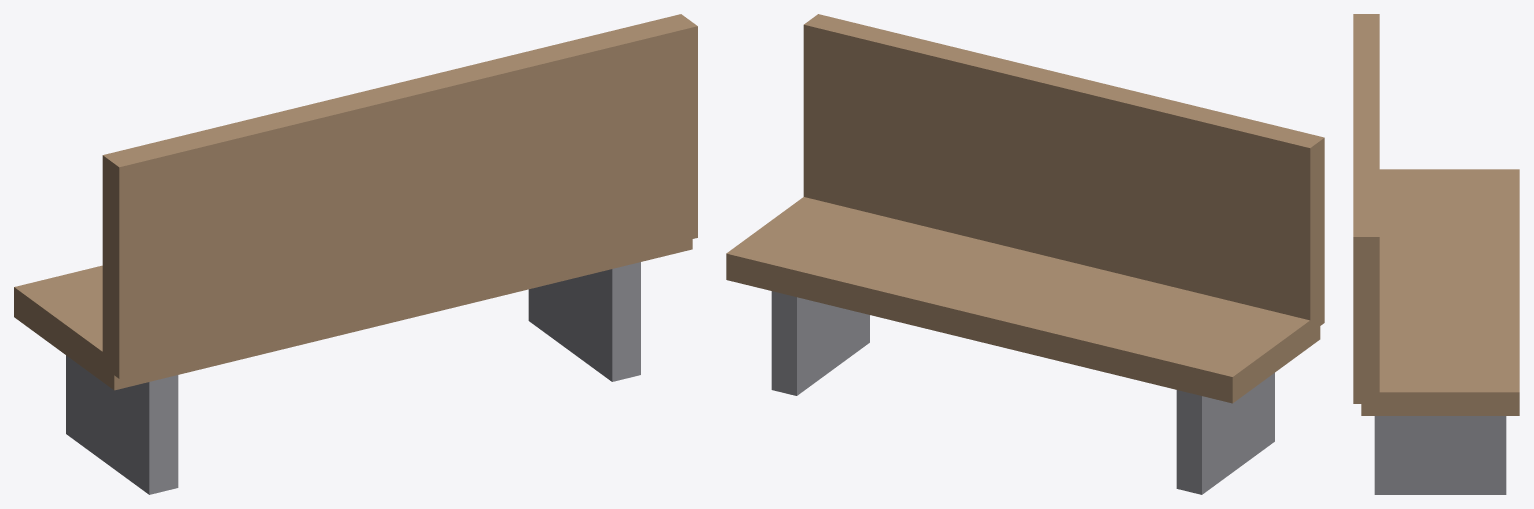
Rendered from bench_metal_wood.glb.
3 renders of one model, left to right at view 1: azimuth 30°, elevation 25°; view 2: azimuth 150°, elevation 25°; view 3: azimuth 270°, elevation 25°, orthographic. The views are drawn at different scales.
Parts seen in each view (by area): view 1: back, seat, leg1, leg2; view 2: back, seat, leg1, leg2; view 3: seat, back, leg2.
Boxes of the visible parts, left/top/right/bottom form: back: left=102, top=14, right=697, bottom=378; seat: left=14, top=239, right=692, bottom=390; leg1: left=66, top=355, right=178, bottom=494; leg2: left=528, top=262, right=640, bottom=381; back: left=803, top=14, right=1324, bottom=325; seat: left=726, top=197, right=1320, bottom=403; leg1: left=1176, top=373, right=1274, bottom=494; leg2: left=771, top=291, right=869, bottom=395; seat: left=1361, top=169, right=1519, bottom=415; back: left=1353, top=14, right=1379, bottom=403; leg2: left=1374, top=416, right=1506, bottom=494.
Size of the model in its own units: 2 by 1.15 by 0.6296.
